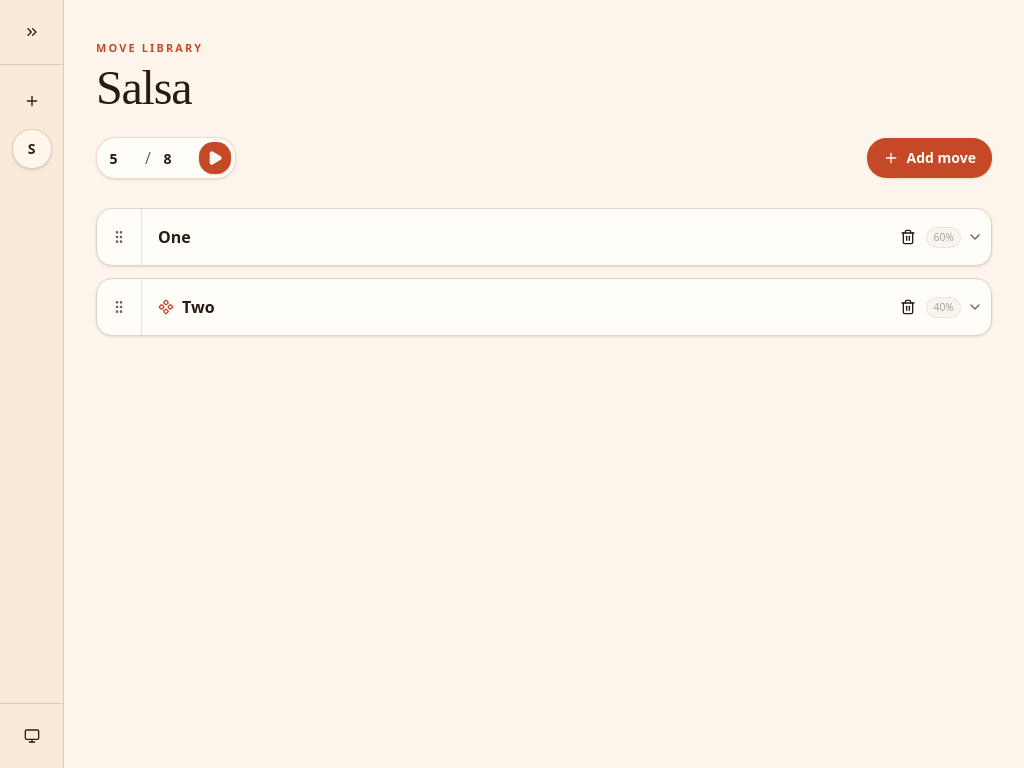
RepeaterApp startup › keeps only one move open and starts with a collapsed sidebar
Click the button with aria-label "edit one" at (174, 237), box [142,209,884,265]
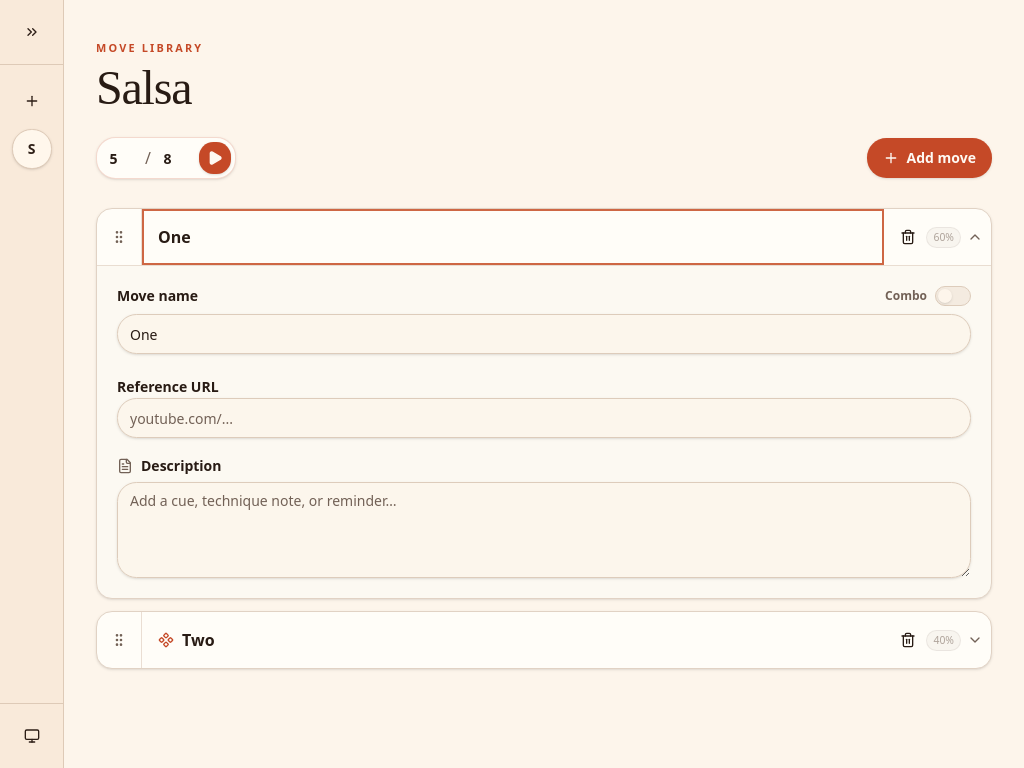
Click the button with aria-label "edit two" at (198, 640), box [142,612,884,668]
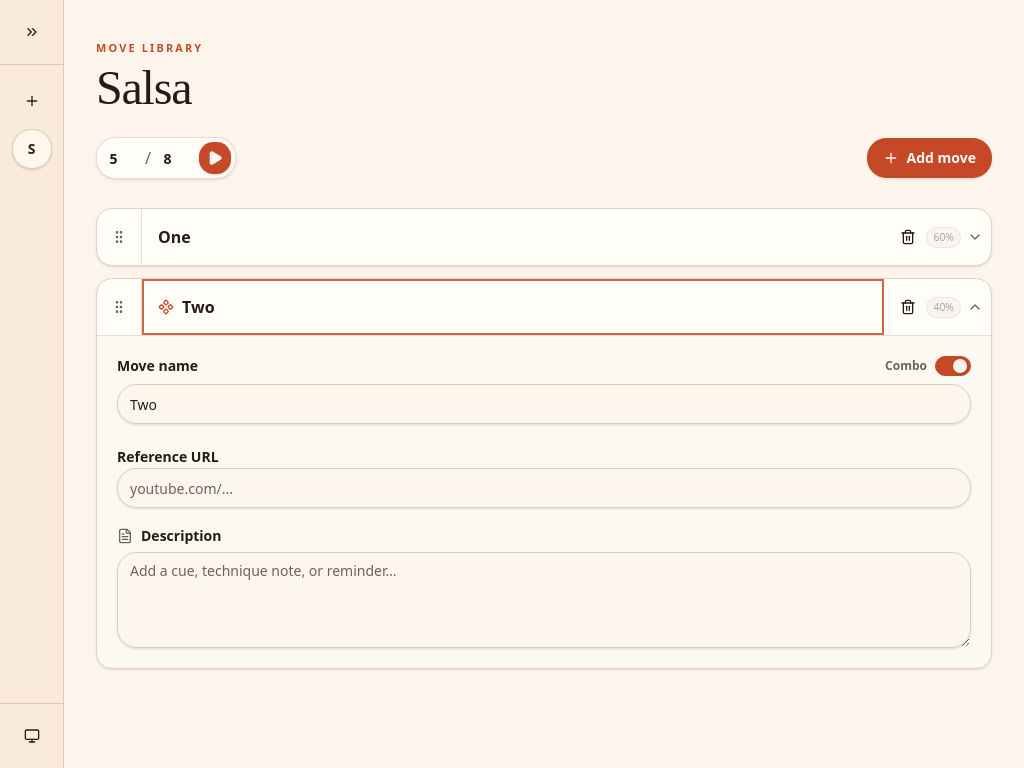
Expected: the button named "Expand style navigation" is shown, [16,16,48,48]
Now the button with aria-label "collapse two" is expanded, box [142,279,884,335]
